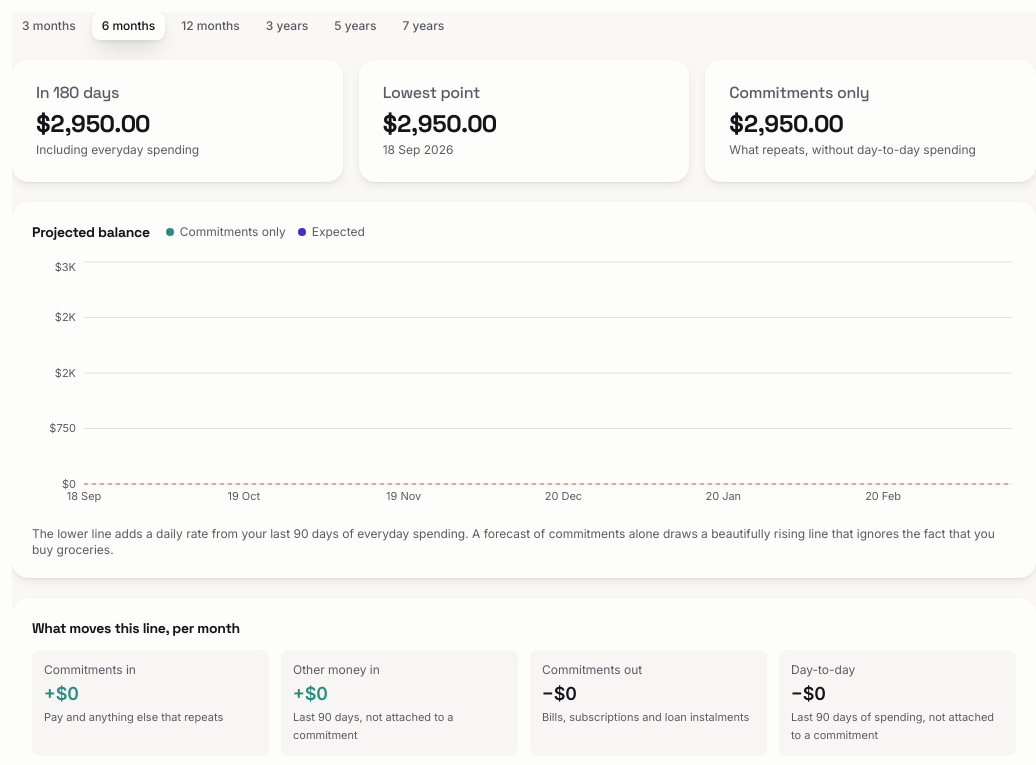
Scenario: the horizon › says a long horizon is a projection rather than a forecast
Check: the text "A projection, not a forecast" is not shown
Click the tab "7 years" at [423, 26], box [392,12,454,40]
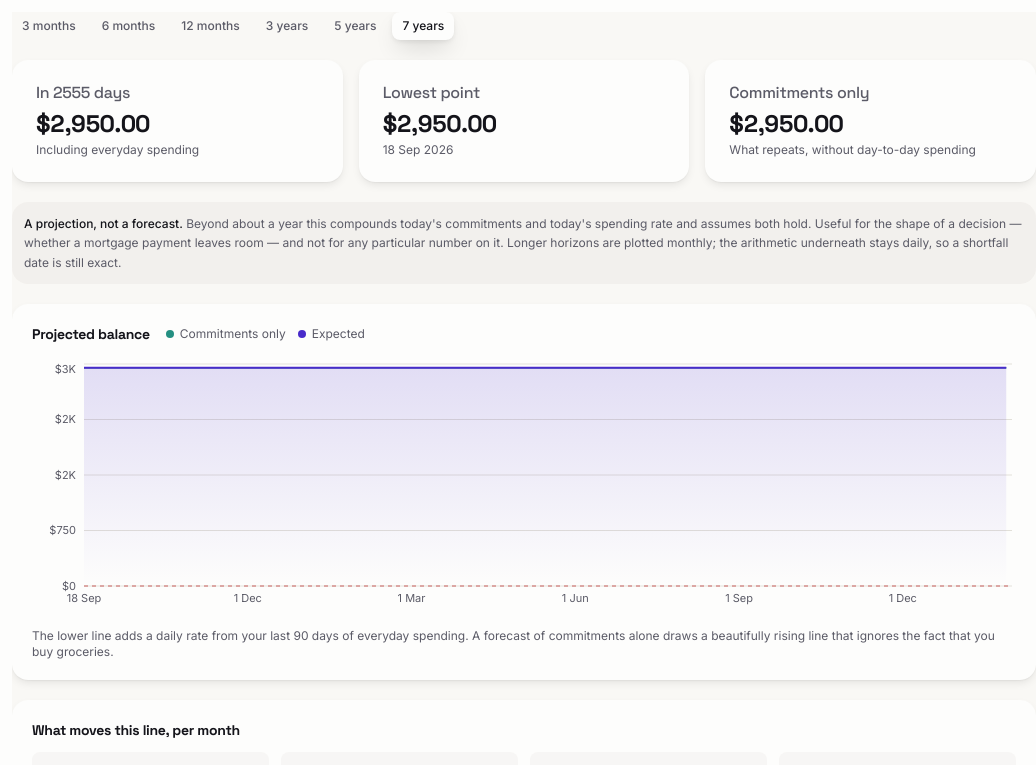
Check: the text "A projection, not a forecast." is shown, box [24,216,183,231]
